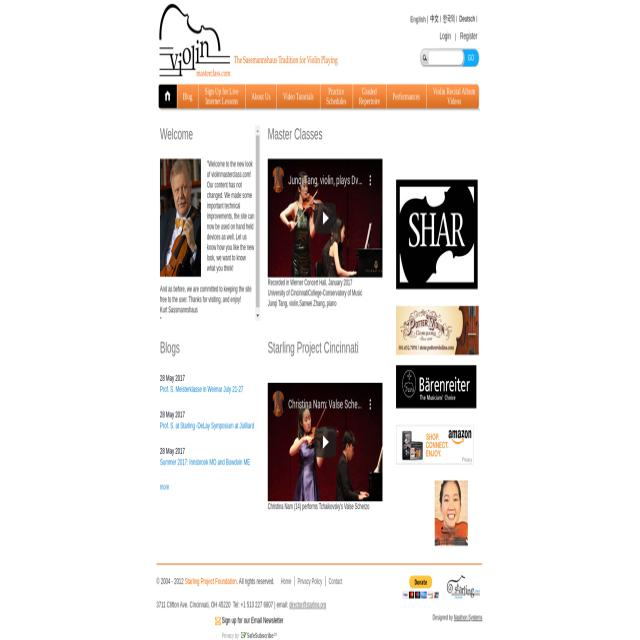button: (268, 159, 383, 279), (268, 381, 383, 501), (158, 4, 338, 76), (396, 180, 478, 289), (160, 158, 201, 276), (396, 306, 478, 355), (396, 365, 476, 409), (396, 427, 473, 464), (434, 480, 468, 546), (426, 84, 478, 109), (199, 84, 245, 109), (276, 84, 320, 109), (386, 84, 426, 109), (447, 574, 480, 602), (353, 84, 386, 109), (320, 84, 352, 109), (403, 576, 439, 598), (246, 84, 276, 109), (256, 135, 260, 307), (314, 203, 336, 233), (315, 429, 336, 458), (177, 84, 198, 109), (156, 84, 177, 108), (272, 167, 286, 193), (272, 392, 286, 418), (464, 48, 480, 67), (365, 170, 375, 193), (365, 395, 375, 415), (255, 125, 260, 135), (256, 310, 260, 322), (215, 617, 221, 625)
field: (428, 51, 464, 65)
